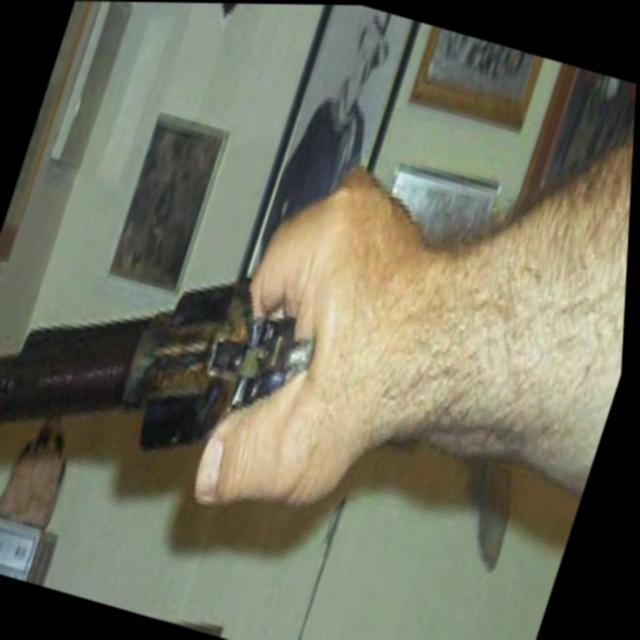weapon: (0, 225, 341, 539)
